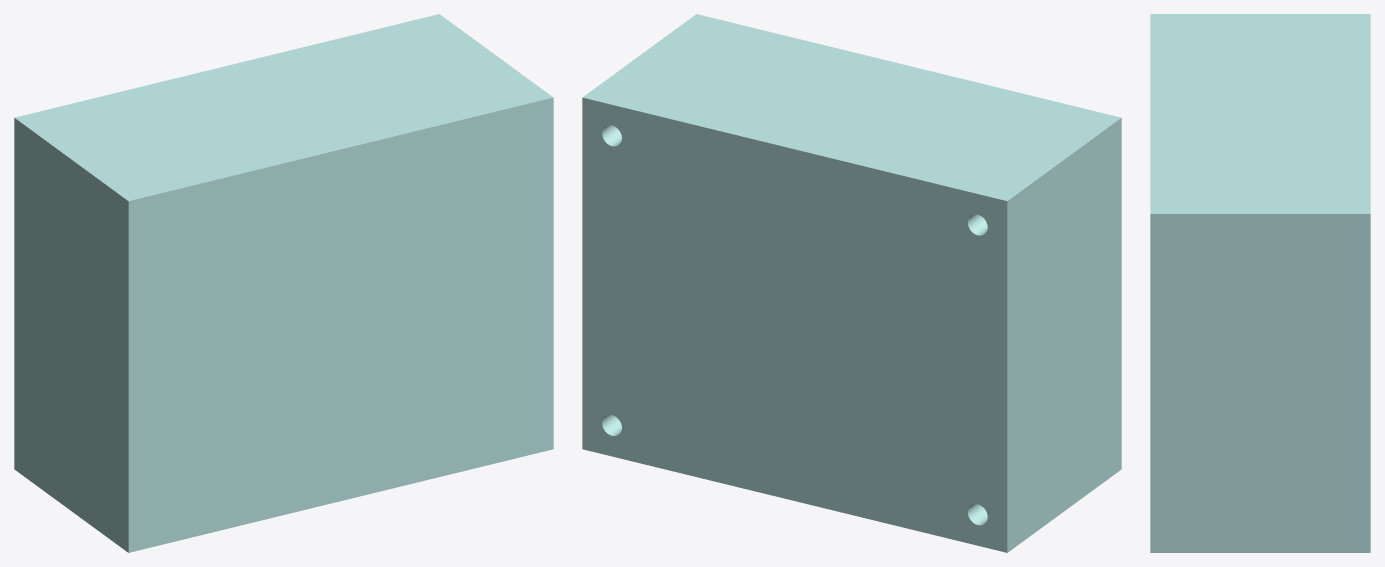
File: serialbus_driver_board.gltf
3 views of the same model, side by side, from view 1: azimuth 30°, elevation 25°; view 2: azimuth 150°, elevation 25°; view 3: azimuth 270°, elevation 25° (orthographic). The views are drawn at different scales.
Visible parts, largest first — view 1: mesh1536, mesh1534, mesh1535; view 2: mesh1531, mesh1534, mesh1535; view 3: mesh1533, mesh1534.
Part boxes in pixels (x1,y1,x2,y2): mesh1536: (128, 97, 553, 552); mesh1534: (15, 14, 553, 201); mesh1535: (14, 118, 128, 552); mesh1531: (582, 97, 1007, 552); mesh1534: (582, 14, 1120, 201); mesh1535: (1007, 118, 1121, 552); mesh1533: (1150, 214, 1370, 552); mesh1534: (1150, 14, 1370, 213).
Bounding box in the file's own units: 0.043 × 0.034 × 0.02.
